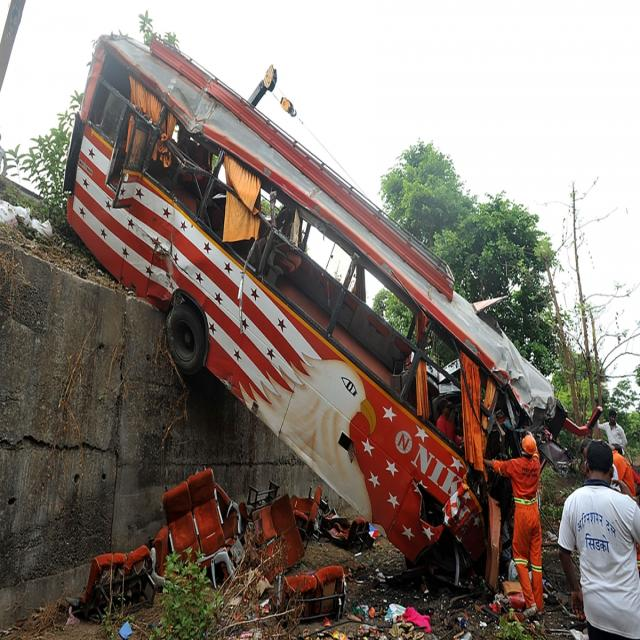accident: (64, 35, 565, 615)
